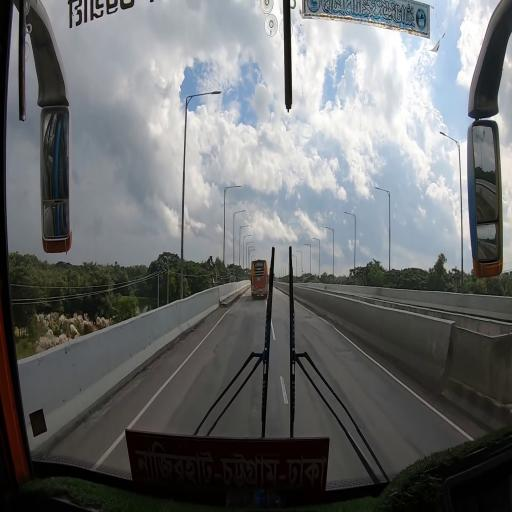bus: (252, 260, 270, 297)
